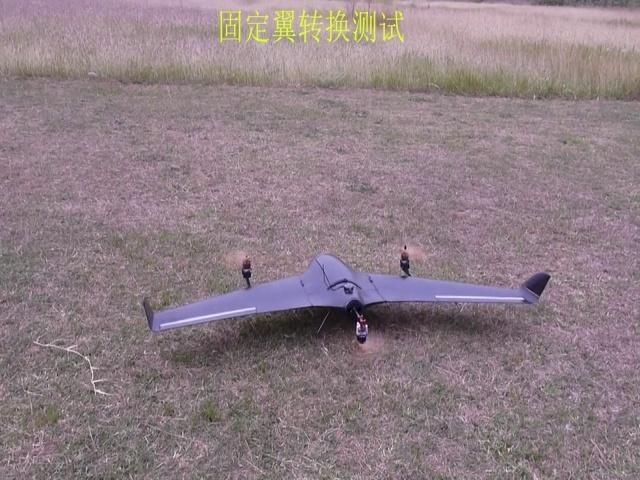Airplane: (142, 243, 550, 353)
